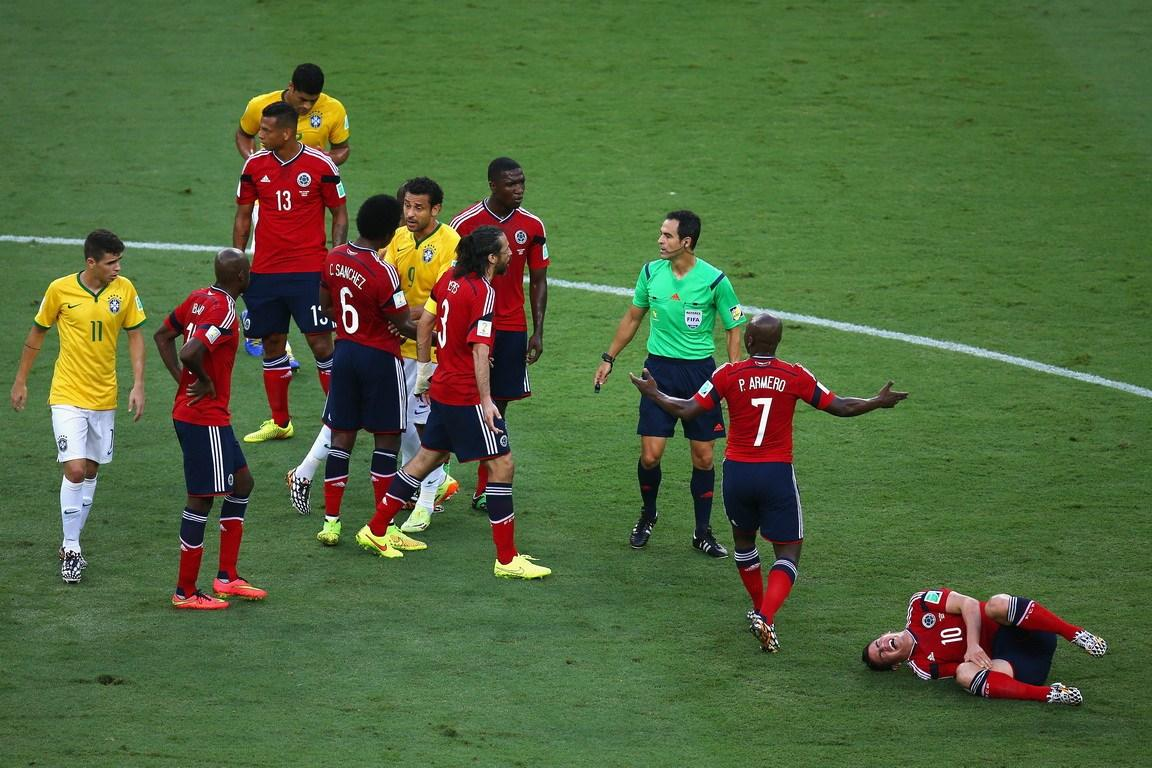down: (814, 560, 1122, 736)
up: (656, 317, 890, 659), (376, 224, 558, 593), (589, 187, 739, 570), (8, 229, 158, 589), (155, 242, 287, 624), (217, 104, 342, 442), (320, 184, 420, 561), (383, 169, 468, 515), (453, 148, 551, 435)
